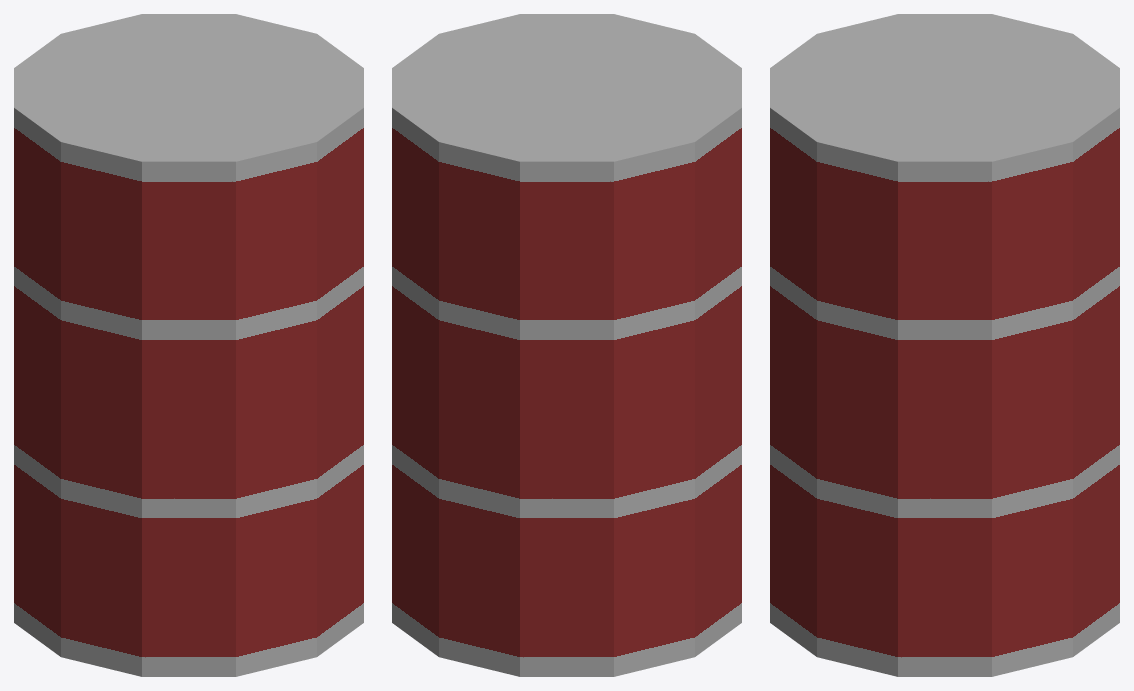
File: barrel.fbx
The picture shows the model from 3 angles, left to right: view 1: azimuth 30°, elevation 25°; view 2: azimuth 150°, elevation 25°; view 3: azimuth 270°, elevation 25°; orthographic projection.
Parts seen in each view (by area): view 1: cylinder; view 2: cylinder; view 3: cylinder.
Boxes of the visible parts, bbox=[...] form: cylinder: bbox=[14, 14, 363, 676]; cylinder: bbox=[392, 14, 741, 676]; cylinder: bbox=[770, 14, 1119, 676].
Size of the model in its own units: 100 by 162 by 100.
1 material, 1 textured.
